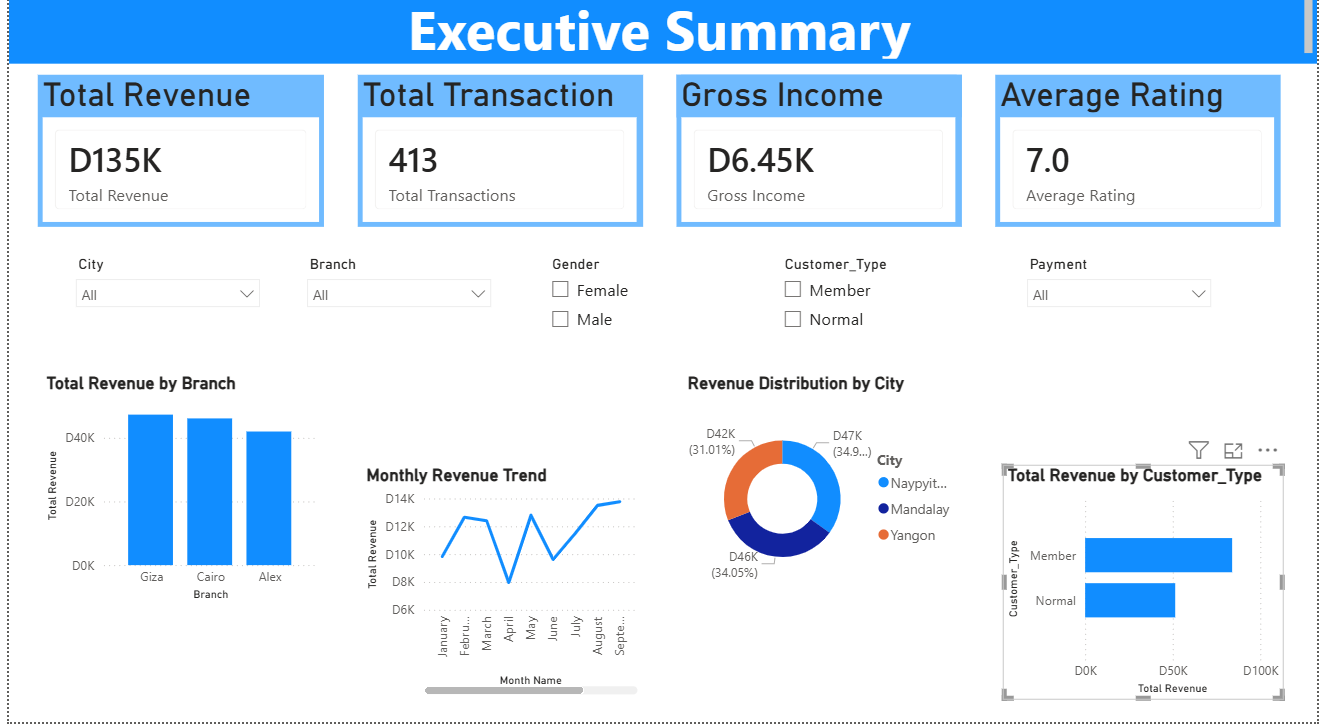

Layout of this report page (visuals, bound fields, positions):
{"tool":"powerbi","page":{"name":"Executive Overview","canvas":[1280,720],"ordinal":0},"visuals":[{"type":"cardVisual","title":"Total Revenue","fields":{"Data":["SuperMarket Analysis.Total Revenue"]},"box":[27.9,86.8,280,149.2],"z":0},{"type":"cardVisual","title":"Gross Income","fields":{"Data":["SuperMarket Analysis.Gross Income"]},"box":[652.7,86.8,278.8,149.2],"z":1000},{"type":"cardVisual","title":"Total Transaction","fields":{"Data":["SuperMarket Analysis.Total Transactions"]},"box":[340.9,86.8,278.8,149.2],"z":2000},{"type":"cardVisual","title":"Average Rating","fields":{"Data":["SuperMarket Analysis.Average Rating"]},"box":[964.6,86.8,278.8,149.2],"z":3000},{"type":"slicer","fields":{"Values":["SuperMarket Analysis.City"]},"box":[55,258,200,100],"z":4000},{"type":"slicer","fields":{"Values":["SuperMarket Analysis.Branch"]},"box":[281.3,258,200,100],"z":5000},{"type":"slicer","fields":{"Values":["SuperMarket Analysis.Customer_Type"]},"box":[745.9,258,200.5,100],"z":6000},{"type":"slicer","fields":{"Values":["SuperMarket Analysis.Payment"]},"box":[985.6,258,200.5,100],"z":7000},{"type":"slicer","fields":{"Values":["SuperMarket Analysis.Gender"]},"box":[518.5,258,200,100],"z":8000},{"type":"clusteredColumnChart","fields":{"Category":["SuperMarket Analysis.Branch"],"Y":["SuperMarket Analysis.Total Revenue"]},"box":[31.8,377.9,275.1,228.7],"z":9000},{"type":"donutChart","title":"Revenue Distribution by City","fields":{"Category":["SuperMarket Analysis.City"],"Y":["SuperMarket Analysis.Total Revenue"]},"box":[658.7,377.9,275.1,228.7],"z":10000},{"type":"lineChart","title":"Monthly Revenue Trend","fields":{"Y":["SuperMarket Analysis.Total Revenue"],"Category":["SuperMarket Analysis.Month Name"]},"box":[345.2,468.3,275.1,229.9],"z":11000},{"type":"clusteredBarChart","fields":{"Y":["SuperMarket Analysis.Total Revenue"],"Category":["SuperMarket Analysis.Customer_Type"]},"box":[972.2,468.3,275.1,229.9],"z":12000},{"type":"textbox","box":[0,0,1280.3,75.8],"z":13000}]}

Visuals, with their boxes in screenshot pixels (x1, y1, x2, y2), scaled from the page's 1280x720 canvas onto the 1326x728 screenshot:
"Total Revenue" cardVisual: [left=29, top=88, right=319, bottom=239]
"Gross Income" cardVisual: [left=676, top=88, right=965, bottom=239]
"Total Transaction" cardVisual: [left=353, top=88, right=642, bottom=239]
"Average Rating" cardVisual: [left=999, top=88, right=1288, bottom=239]
slicer - SuperMarket Analysis.City: [left=57, top=261, right=264, bottom=362]
slicer - SuperMarket Analysis.Branch: [left=291, top=261, right=499, bottom=362]
slicer - SuperMarket Analysis.Customer_Type: [left=773, top=261, right=980, bottom=362]
slicer - SuperMarket Analysis.Payment: [left=1021, top=261, right=1229, bottom=362]
slicer - SuperMarket Analysis.Gender: [left=537, top=261, right=744, bottom=362]
clusteredColumnChart - SuperMarket Analysis.Branch x SuperMarket Analysis.Total Revenue: [left=33, top=382, right=318, bottom=613]
"Revenue Distribution by City" donutChart: [left=682, top=382, right=967, bottom=613]
"Monthly Revenue Trend" lineChart: [left=358, top=474, right=643, bottom=706]
clusteredBarChart - SuperMarket Analysis.Total Revenue x SuperMarket Analysis.Customer_Type: [left=1007, top=474, right=1292, bottom=706]
textbox: [left=0, top=0, right=1325, bottom=77]
